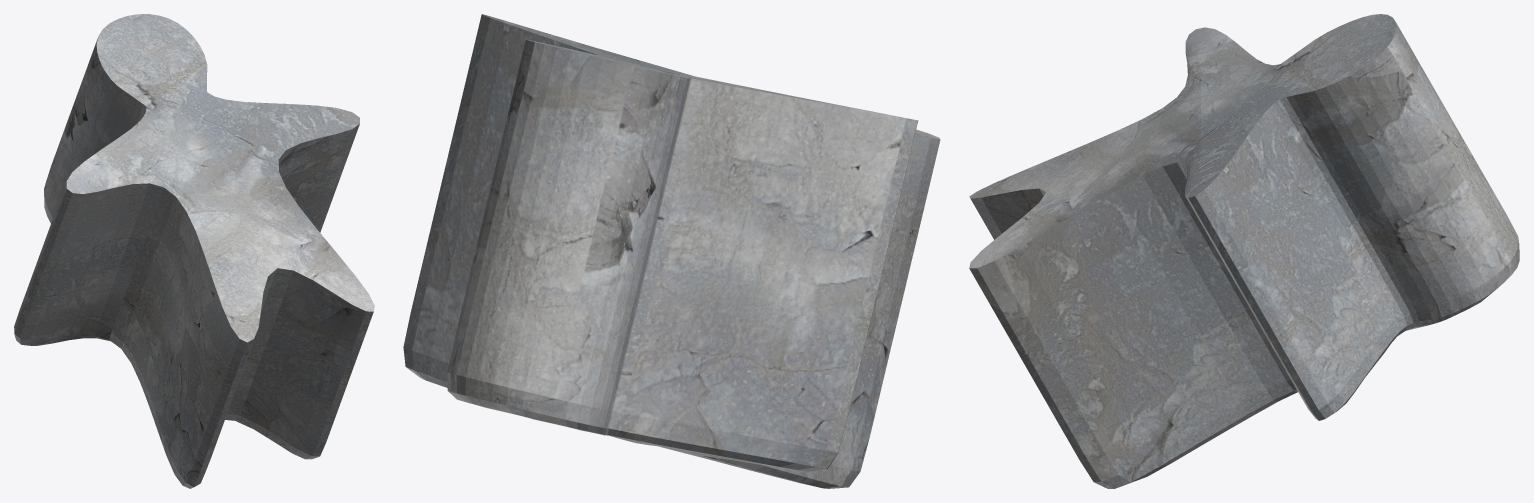
Rendered from MainMenu_PlayerSmaller.fbx.
3 views of the same model, side by side, from view 1: azimuth 30°, elevation 25°; view 2: azimuth 150°, elevation 25°; view 3: azimuth 270°, elevation 25° (orthographic). The views are drawn at different scales.
Parts seen in each view (by area): view 1: PlayerSmall; view 2: PlayerSmall; view 3: PlayerSmall.
Boxes of the visible parts, x1,y1,x2,y2 form: PlayerSmall: [14, 14, 374, 488]; PlayerSmall: [403, 14, 940, 488]; PlayerSmall: [969, 14, 1519, 488].
Size of the model in its own units: 1.4 by 1.67 by 1.95.
Materials: 1 (1 with a texture image).
